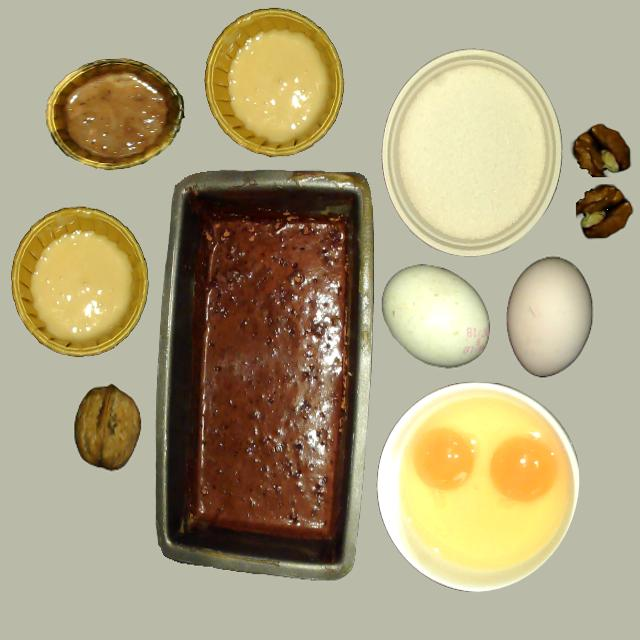Egg: (488, 436, 558, 502), (413, 428, 476, 491)
Sugar: (396, 61, 548, 245)
Walnut: (74, 385, 140, 468)
